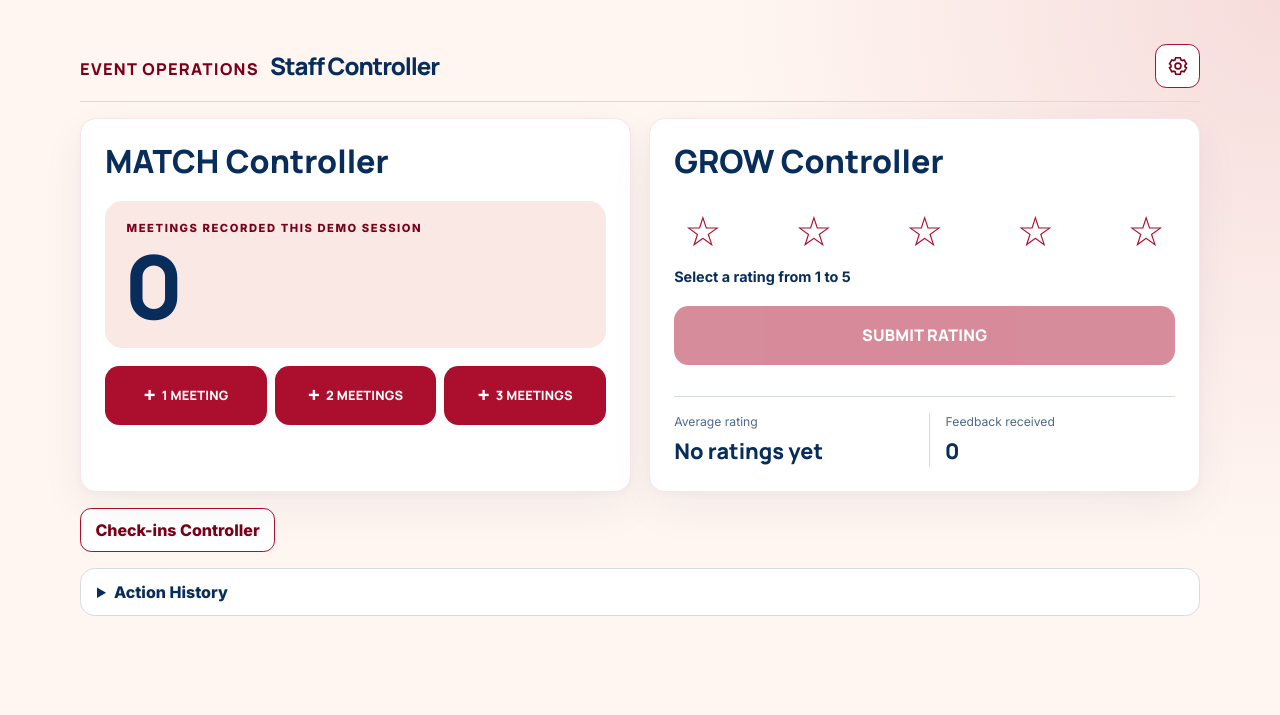
Scenario: StaffController › retries an uncertain correction without changing its request ID
Click the button "+ 1 Meeting": (186, 395) [105,366,267,425]
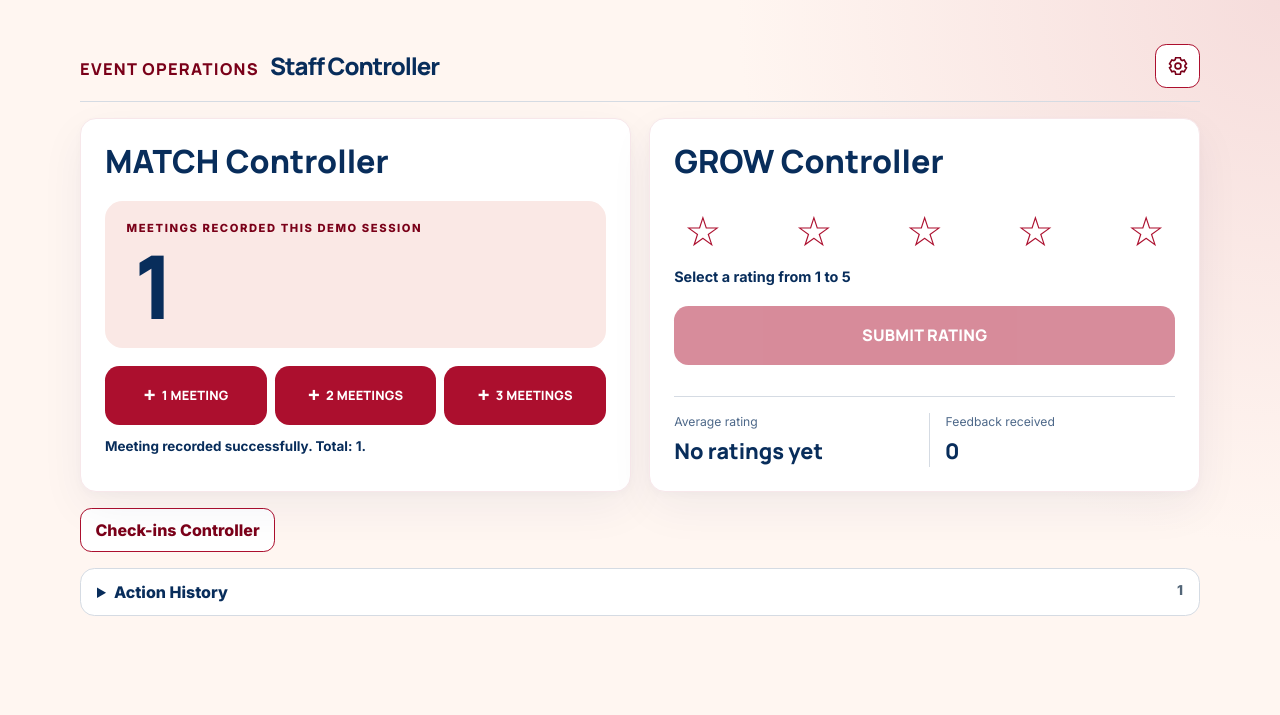
Expected: the text named "1 completed meetings" is shown, [127,225,173,345]
Click the heading "Action History 1": (171, 592) [97,580,1183,604]
(page scrolled)
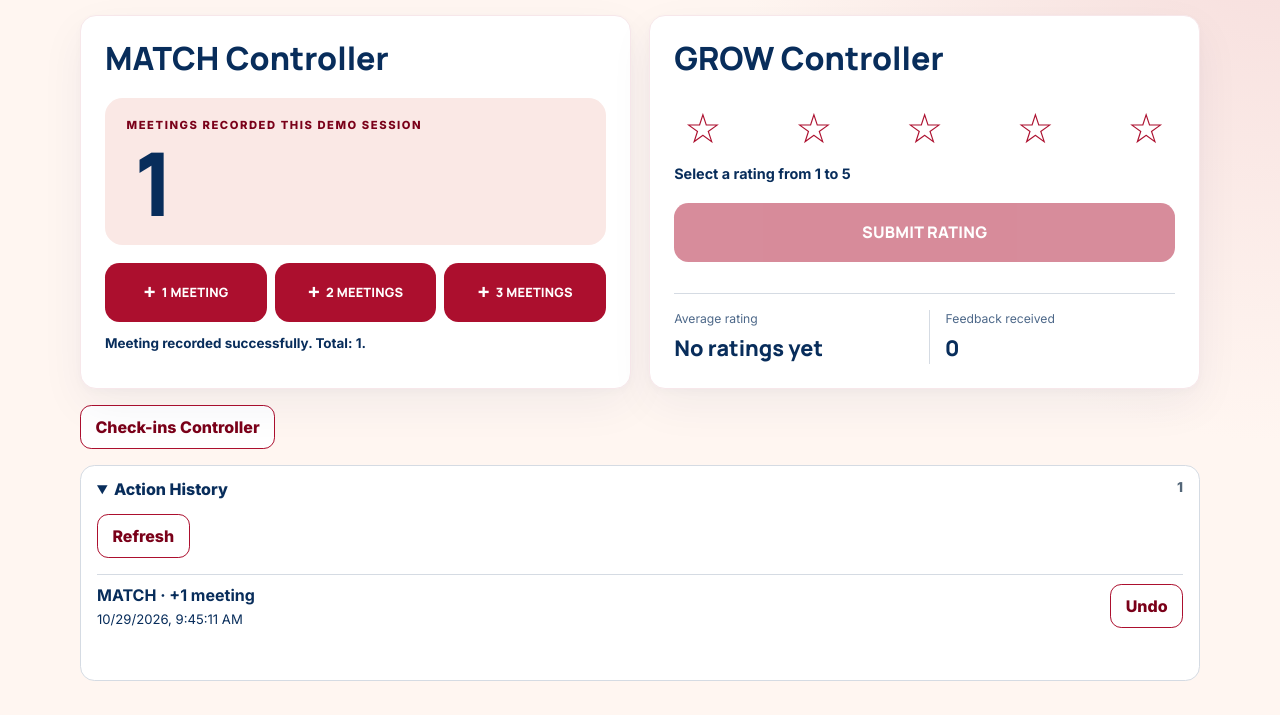
Click the button "Undo": (1147, 606) [1110,584,1183,628]
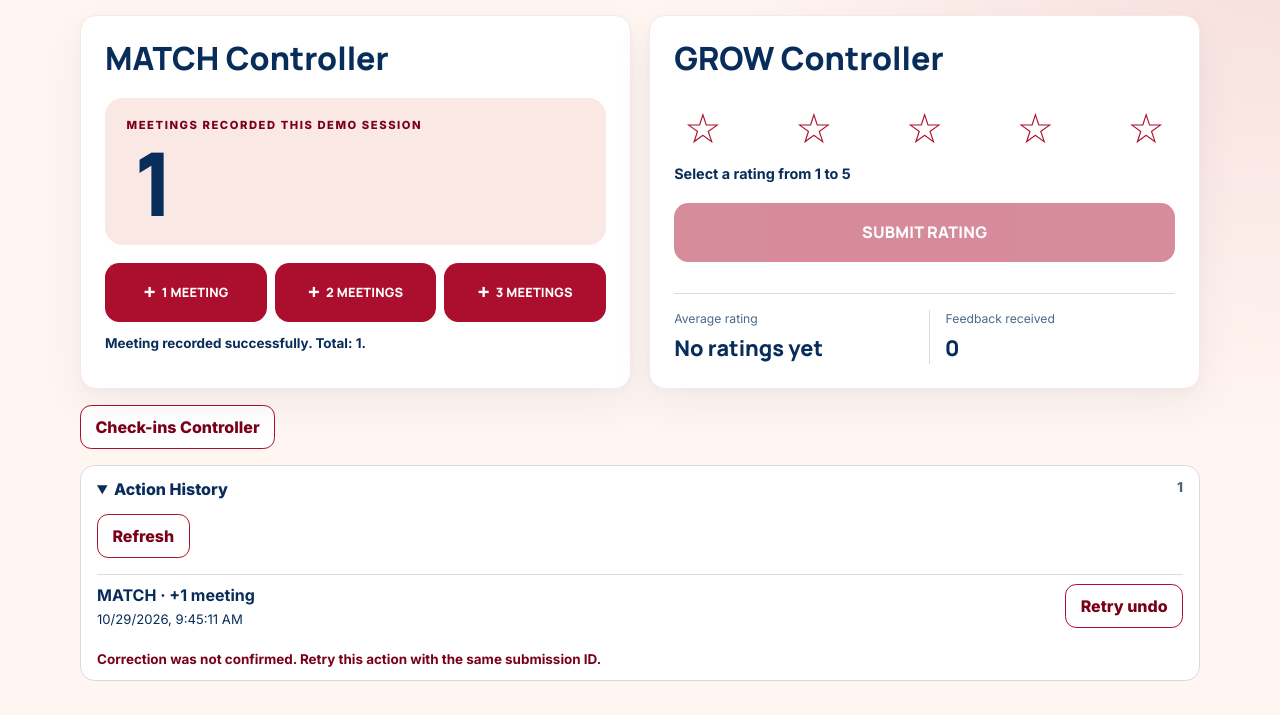
Expected: the text named "1 completed meetings" is shown, [127,122,173,242]
Expected: the text "Correction was not confirmed. Retry this action with the same submission ID." is shown, [97,651,601,667]
Click the button "Retry undo": (1124, 606) [1065,584,1183,628]
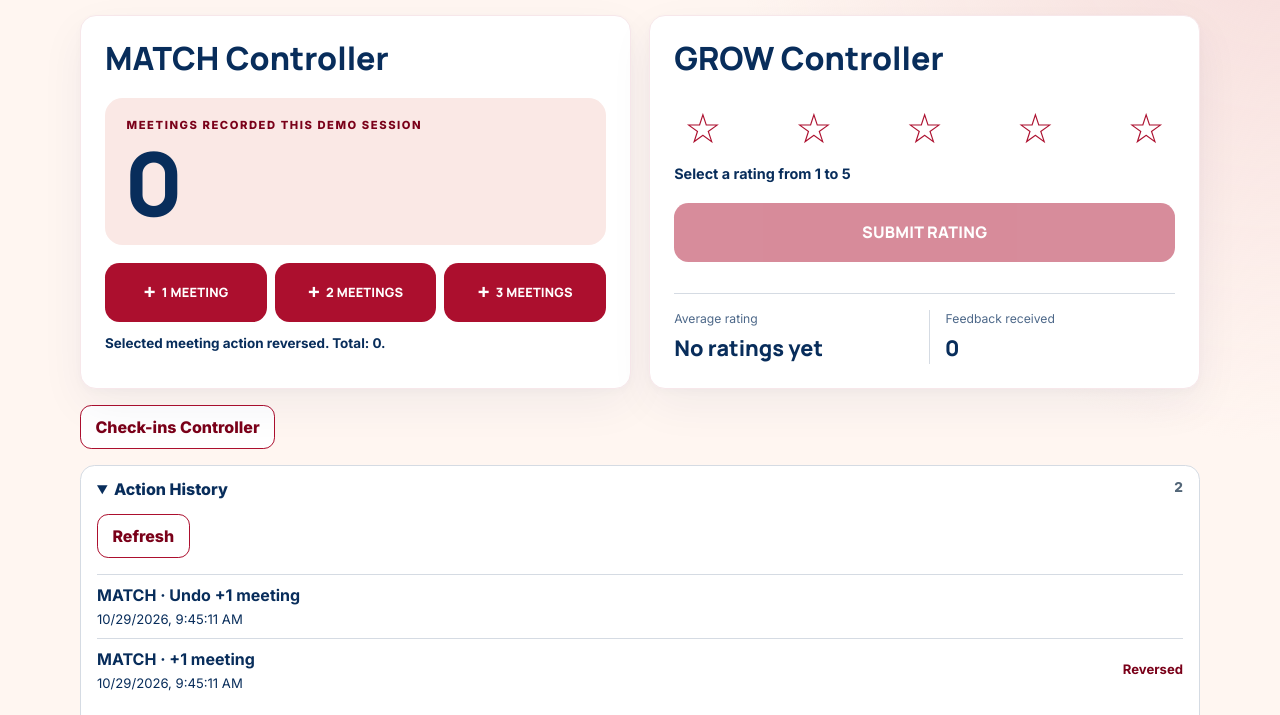
Expected: the text named "0 completed meetings" is shown, [127,122,173,242]
